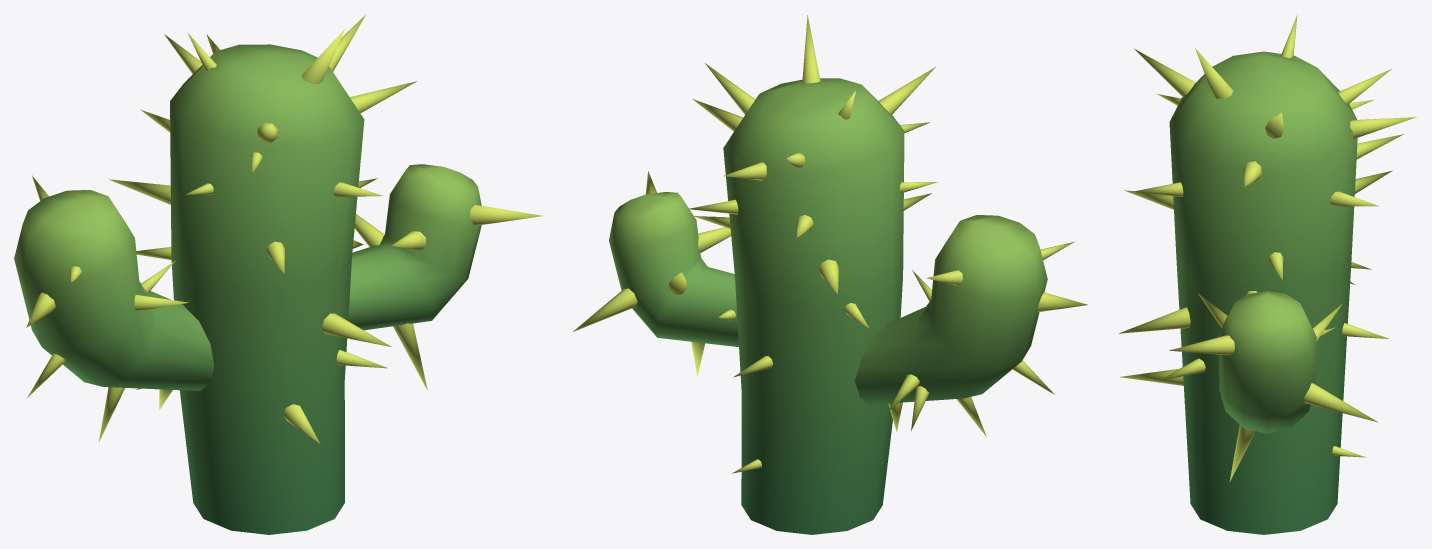
Rendered from platform_kit010.fbx.
3 renders of one model, left to right at view 1: azimuth 30°, elevation 25°; view 2: azimuth 150°, elevation 25°; view 3: azimuth 270°, elevation 25°, orthographic. The views are drawn at different scales.
Parts seen in each view (by area): view 1: platform_kit010; view 2: platform_kit010; view 3: platform_kit010.
Part boxes in pixels (bbox=[...]): platform_kit010: bbox=[14, 15, 542, 534]; platform_kit010: bbox=[573, 15, 1087, 534]; platform_kit010: bbox=[1118, 14, 1416, 534].
Bounding box in the file's own units: 151 × 143 × 81.61.
Materials: 1 (1 with a texture image).
